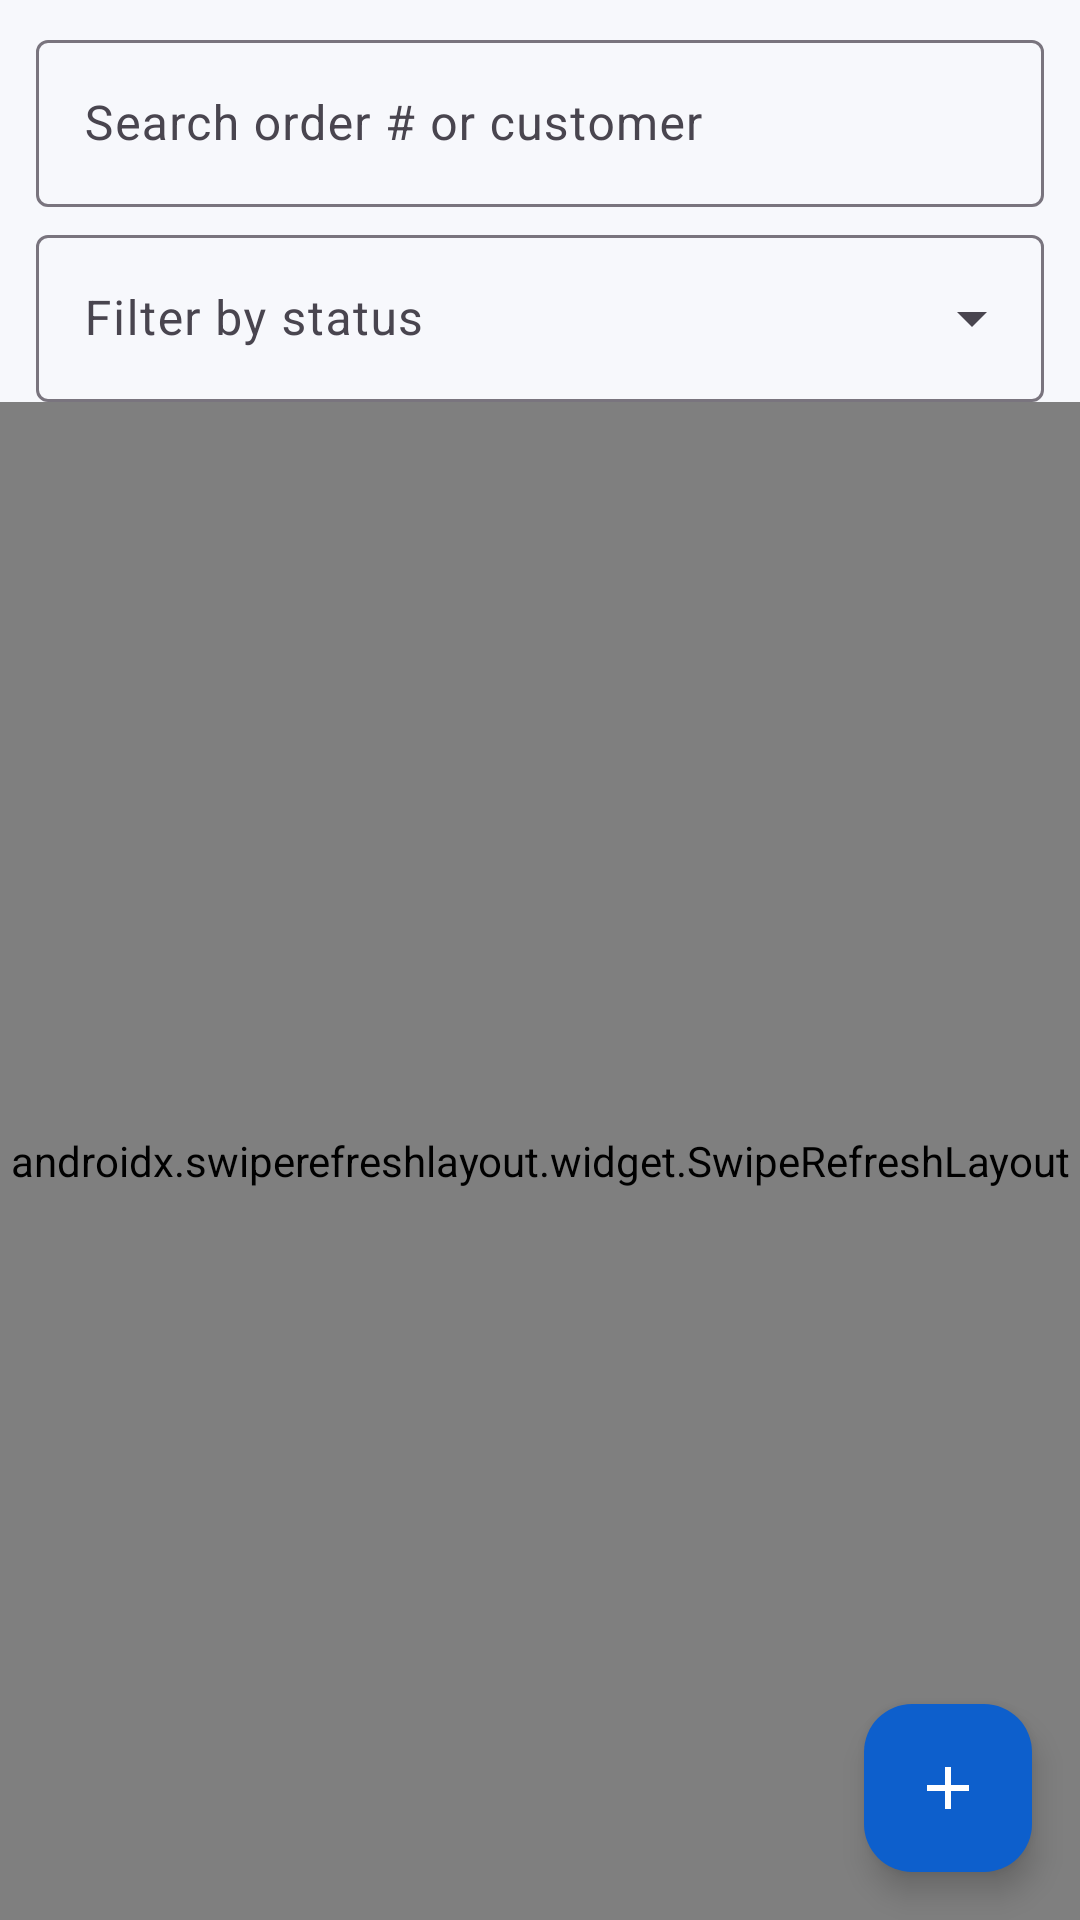

Point at icon controls on the screen. Image size 1080px×1920px, points as point (x, y).
New order: point (948, 1788)
